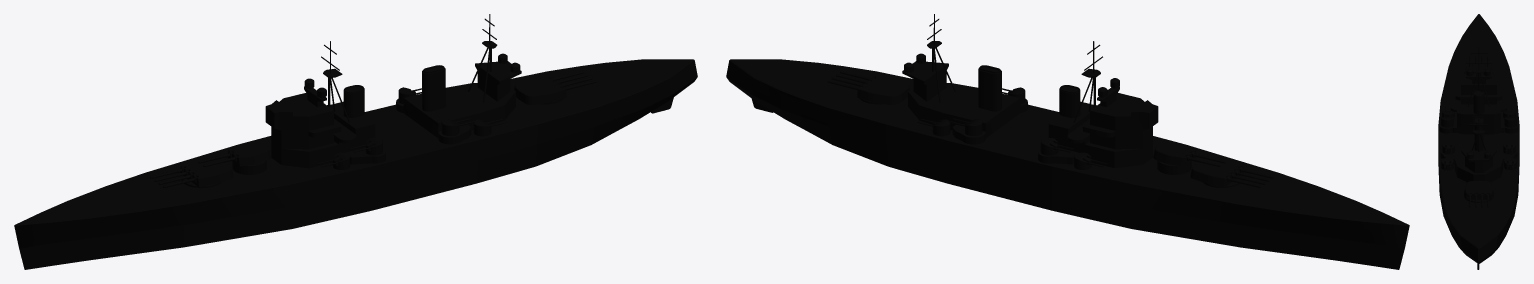
File: George.glb
3 renders of one model, left to right at view 1: azimuth 30°, elevation 25°; view 2: azimuth 150°, elevation 25°; view 3: azimuth 270°, elevation 25°, orthographic. The views are drawn at different scales.
Parts seen in each view (by area): view 1: node_id5; view 2: node_id5; view 3: node_id5.
Boxes of the visible parts, box(x1,y1,x2,y2) form: node_id5: box(14, 14, 697, 269); node_id5: box(726, 14, 1409, 269); node_id5: box(1438, 14, 1519, 269).
Size of the model in its own units: 0.512 by 0.1113 by 0.0749.
1 material, 1 textured.
